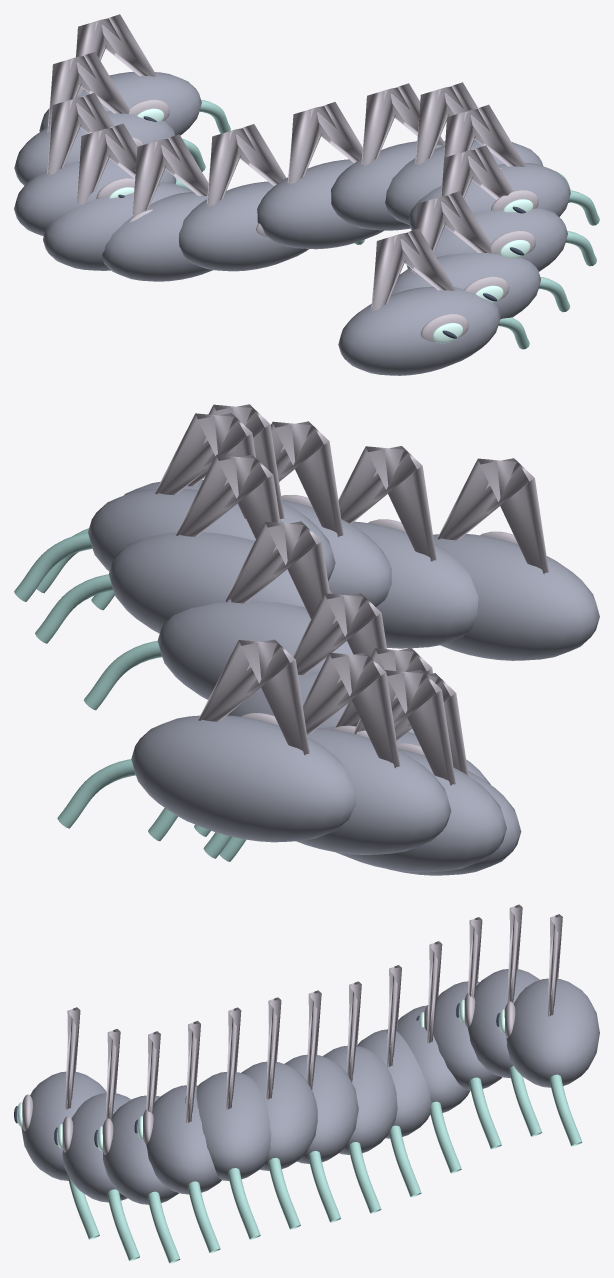
File: bio_ribbon_colony_05_near.glb
3 views of the same model, one above another, from view 1: azimuth 30°, elevation 25°; view 2: azimuth 150°, elevation 25°; view 3: azimuth 270°, elevation 25° (orthographic). The views are drawn at different scales.
Visible parts, largest first — view 1: Overlapping folded ribbon, Overlapping folded ribbon.007, Overlapping folded ribbon.006, Overlapping folded ribbon.008, Overlapping folded ribbon.009, Overlapping folded ribbon.005, Overlapping folded ribbon.001, Raised pleated edge, Overlapping folded ribbon.010, Overlapping folded ribbon.002, Raised pleated edge.007, Raised pleated edge.003 (+19 smaller); view 2: Overlapping folded ribbon.012, Overlapping folded ribbon, Overlapping folded ribbon.005, Overlapping folded ribbon.011, Overlapping folded ribbon.001, Overlapping folded ribbon.006, Overlapping folded ribbon.010, Raised pleated edge, Raised pleated edge.012, Raised pleated edge.001, Raised pleated edge.011, Overlapping folded ribbon.004 (+17 smaller); view 3: Overlapping folded ribbon.012, Overlapping folded ribbon.004, Overlapping folded ribbon.003, Overlapping folded ribbon.005, Overlapping folded ribbon, Overlapping folded ribbon.006, Overlapping folded ribbon.007, Overlapping folded ribbon.002, Overlapping folded ribbon.011, Overlapping folded ribbon.001, Overlapping folded ribbon.008, Overlapping folded ribbon.010 (+27 smaller).
Boxes of the visible parts, bbox=[...] form: Overlapping folded ribbon: bbox=[338, 286, 500, 375]; Overlapping folded ribbon.007: bbox=[178, 181, 308, 271]; Overlapping folded ribbon.006: bbox=[257, 159, 384, 249]; Overlapping folded ribbon.008: bbox=[102, 192, 212, 281]; Overlapping folded ribbon.009: bbox=[43, 182, 192, 270]; Overlapping folded ribbon.005: bbox=[331, 141, 445, 230]; Overlapping folded ribbon.001: bbox=[391, 252, 540, 319]; Raised pleated edge: bbox=[371, 228, 468, 342]; Overlapping folded ribbon.010: bbox=[14, 159, 176, 236]; Overlapping folded ribbon.002: bbox=[406, 208, 567, 271]; Raised pleated edge.007: bbox=[206, 124, 286, 237]; Raised pleated edge.003: bbox=[441, 104, 538, 210]; Overlapping folded ribbon.012: bbox=[131, 715, 355, 842]; Overlapping folded ribbon: bbox=[433, 534, 599, 660]; Overlapping folded ribbon.005: bbox=[109, 532, 332, 633]; Overlapping folded ribbon.011: bbox=[297, 728, 451, 854]; Overlapping folded ribbon.001: bbox=[351, 521, 478, 648]; Overlapping folded ribbon.006: bbox=[157, 601, 353, 699]; Overlapping folded ribbon.010: bbox=[336, 749, 506, 872]; Raised pleated edge: bbox=[437, 458, 548, 573]; Raised pleated edge.012: bbox=[198, 639, 309, 755]; Raised pleated edge.001: bbox=[338, 446, 436, 561]; Raised pleated edge.011: bbox=[302, 652, 400, 768]; Overlapping folded ribbon.004: bbox=[88, 488, 283, 571]; Overlapping folded ribbon.012: bbox=[506, 978, 599, 1087]; Overlapping folded ribbon.004: bbox=[196, 1072, 271, 1180]; Overlapping folded ribbon.003: bbox=[146, 1085, 221, 1194]; Overlapping folded ribbon.005: bbox=[241, 1061, 317, 1170]; Overlapping folded ribbon: bbox=[21, 1071, 106, 1180]; Overlapping folded ribbon.006: bbox=[284, 1054, 358, 1163]; Overlapping folded ribbon.007: bbox=[323, 1045, 397, 1154]; Overlapping folded ribbon.002: bbox=[103, 1095, 178, 1204]; Overlapping folded ribbon.011: bbox=[468, 969, 539, 1078]; Overlapping folded ribbon.001: bbox=[62, 1093, 131, 1202]; Overlapping folded ribbon.008: bbox=[357, 1029, 431, 1138]; Overlapping folded ribbon.010: bbox=[433, 981, 501, 1090].
Size of the model in its own units: 2.82 by 1.27 by 3.04.
